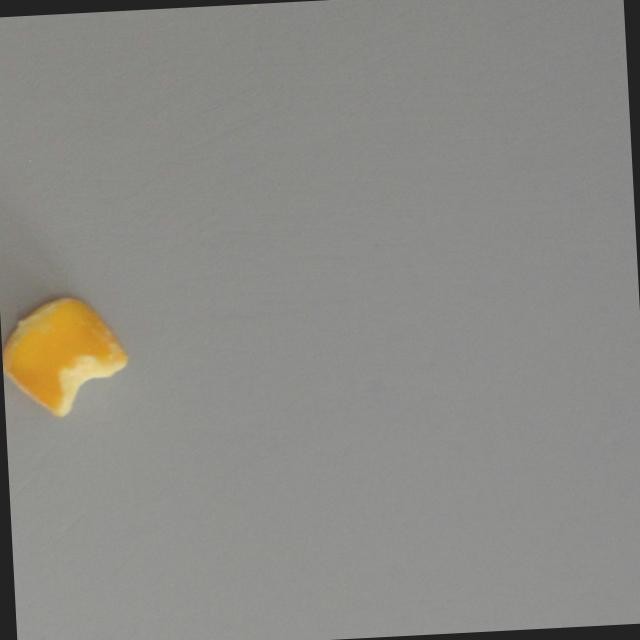pelicula: (0, 289, 131, 422)
